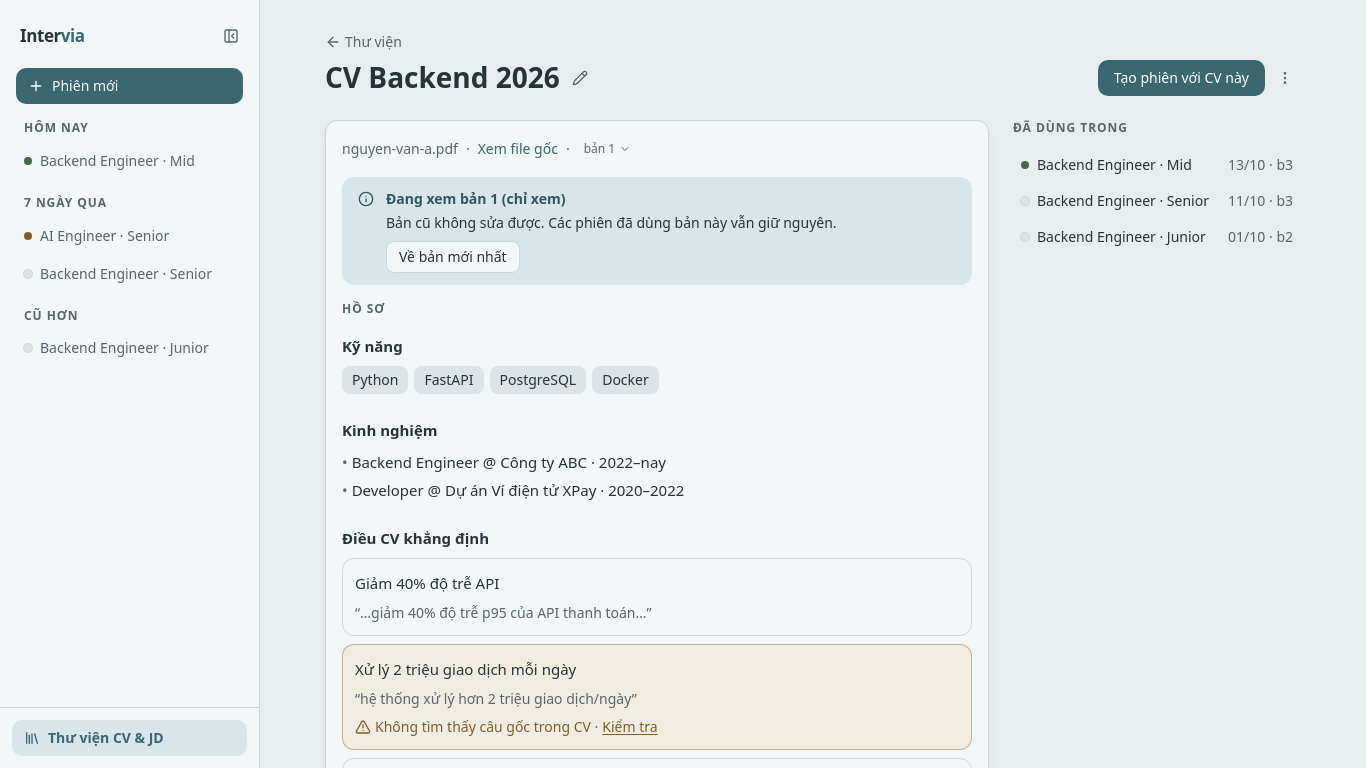
Test: CvDetailPage › opens an old version from ?v= as view-only
This screenshot has width=1366, height=768.
Expected: the text "Đang xem bản 1 (chỉ xem)" is shown, [386,189,565,208]
Expected: the text "Python" is shown, [342,366,408,394]
Step 1. Click the button "Về bản mới nhất" → (453, 257), box [386,241,520,273]
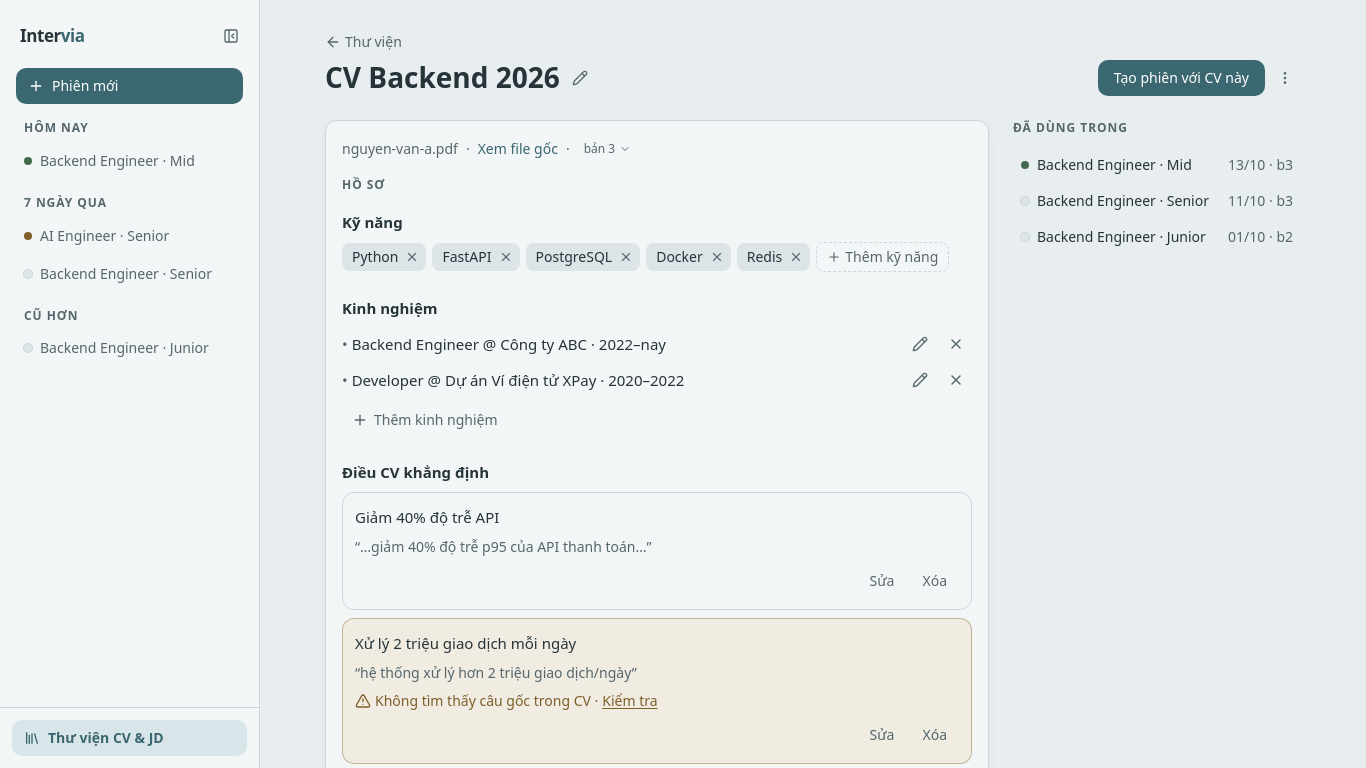
Expected: the text "Đang xem bản" is gone
Expected: the button named "Xóa Python" is shown, [402,247,422,267]
